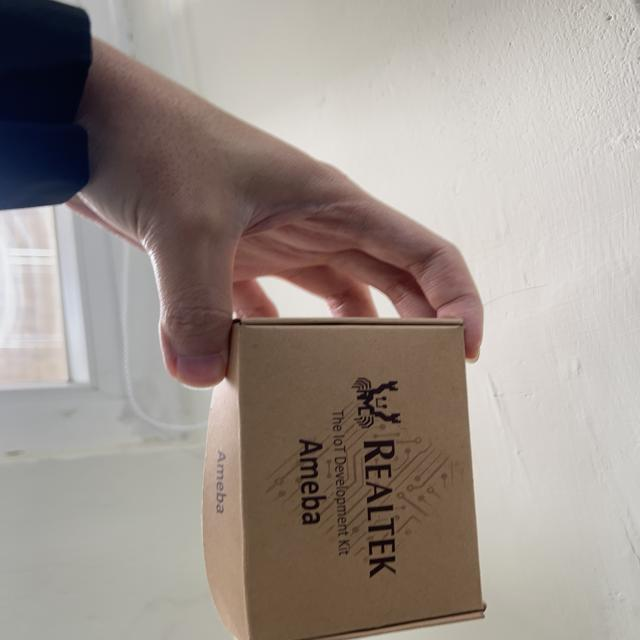box: (149, 288, 522, 640)
